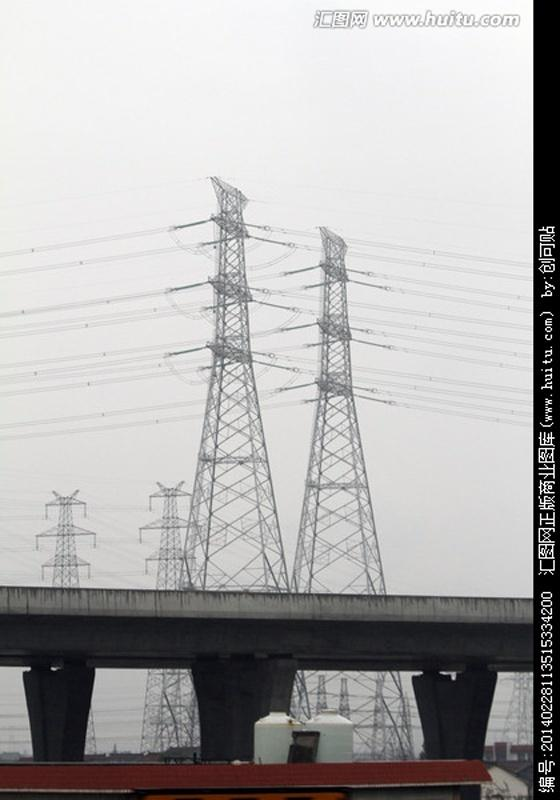power_tower: (177, 171, 281, 588), (307, 221, 386, 589), (150, 472, 196, 732), (36, 473, 103, 590)
